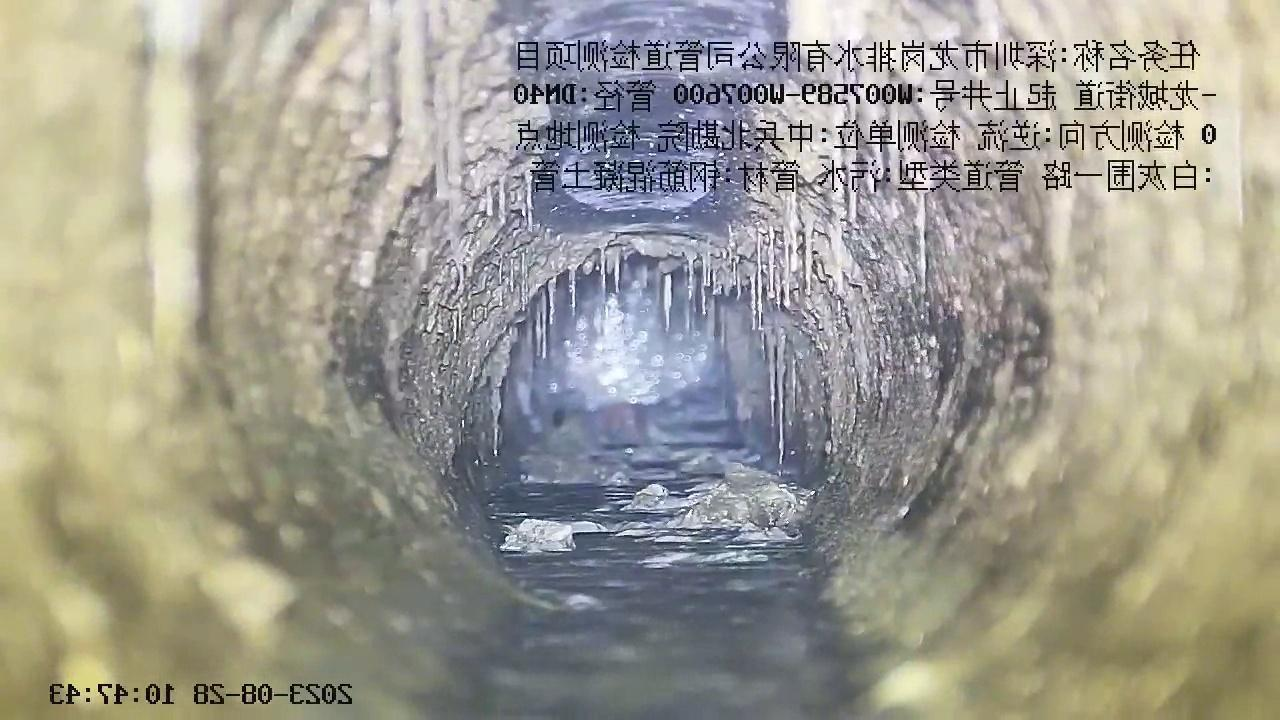CJ: (491, 425, 808, 564)
JG: (144, 0, 1280, 716)
